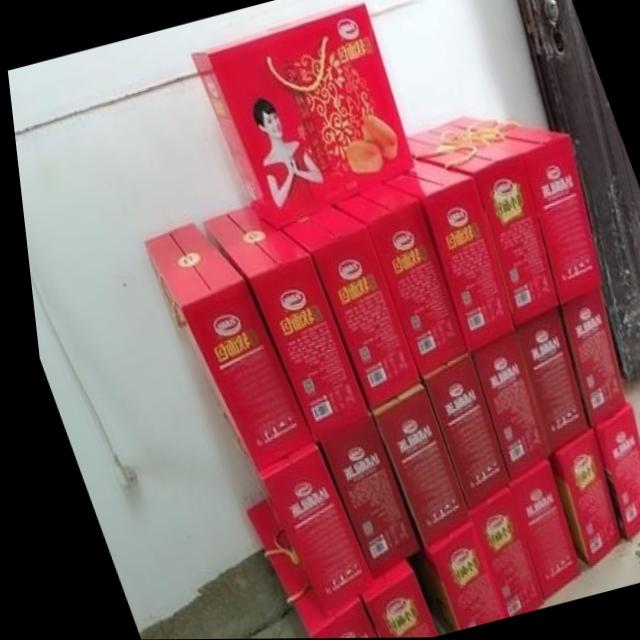box: (189, 2, 412, 229), (137, 222, 302, 470), (198, 206, 357, 440), (422, 115, 597, 307), (405, 132, 552, 328), (272, 206, 412, 411), (219, 421, 359, 618), (327, 183, 461, 376), (379, 160, 507, 350), (232, 499, 363, 639), (307, 413, 407, 580), (361, 383, 459, 552), (413, 351, 498, 513), (463, 330, 541, 483), (507, 309, 581, 454), (398, 522, 491, 632), (496, 459, 568, 601), (537, 430, 609, 569), (457, 487, 530, 618), (554, 291, 617, 429), (583, 405, 640, 543), (346, 561, 425, 638)
